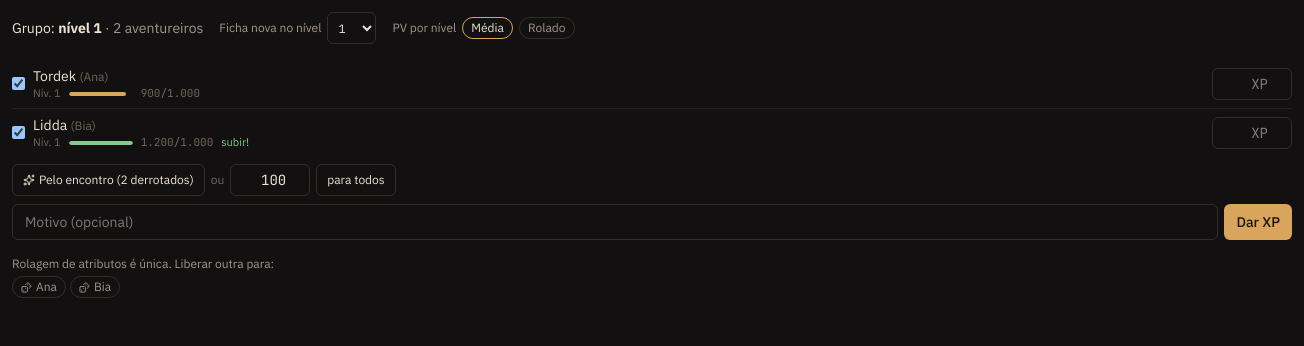
Test case: ProgressionPanel › configura a campanha e libera rolagem
The width and height of the screenshot is (1304, 346).
Select "3" in the dropdown named "Nível inicial de ficha nova" at (352, 28), box x1=327 y1=12 x2=376 y2=44
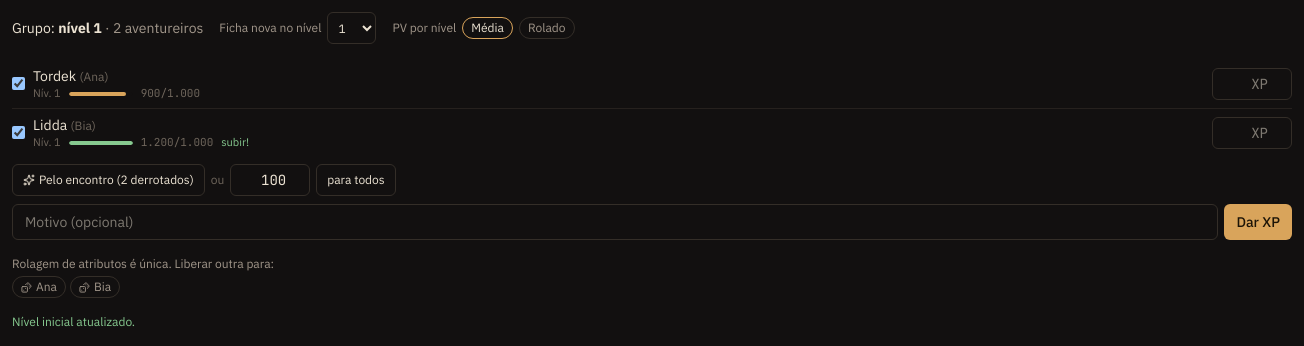
Click the button "Rolado".
click(547, 28)  # box x1=519 y1=17 x2=575 y2=39
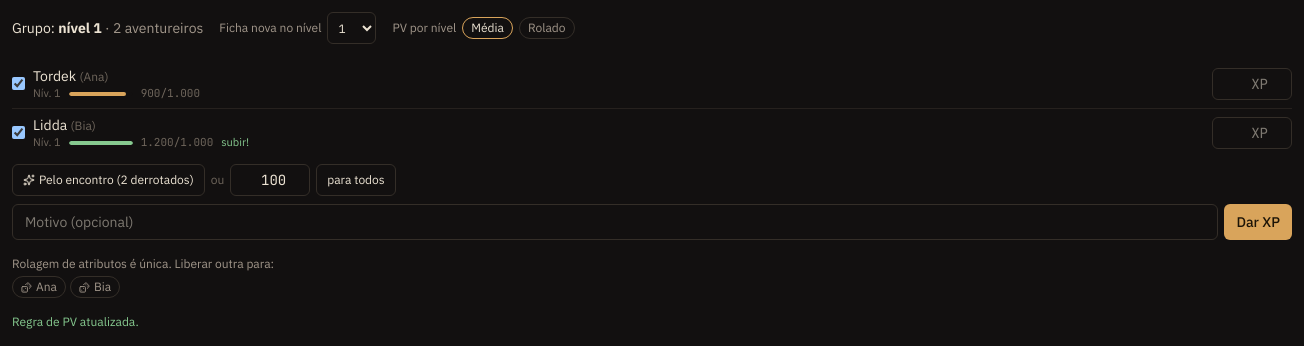
Click the button "Bia".
click(95, 287)  # box x1=70 y1=276 x2=120 y2=298
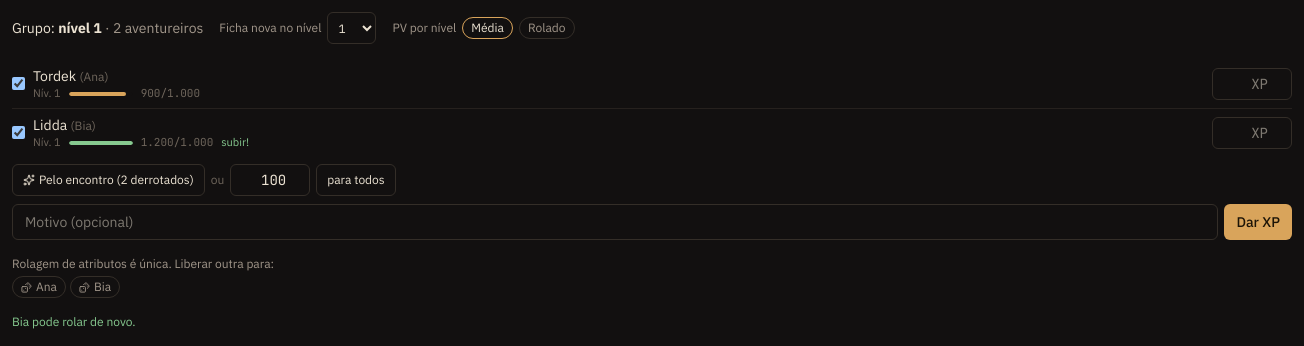
expect the message reads "Bia pode rolar de novo.": met, box x1=12 y1=314 x2=136 y2=329
